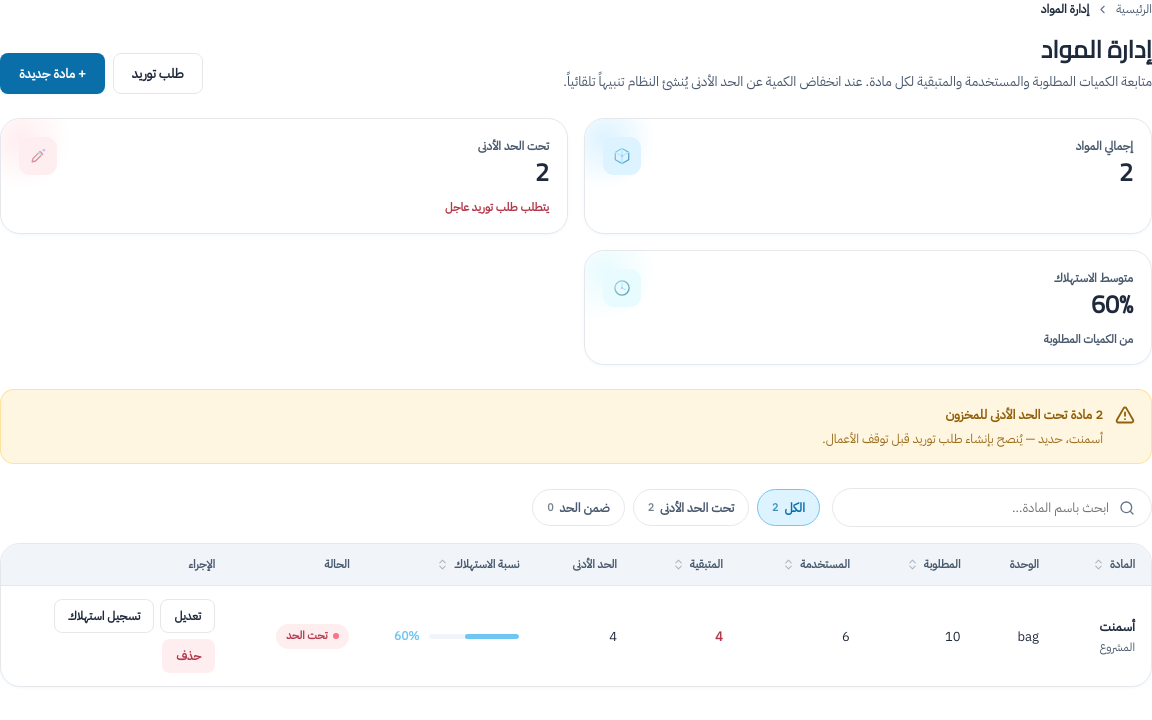
MaterialsPage › targets notification navigation and exposes safe edit, consumption, and delete controls
Expected: the text "أسمنت" is shown, [1100,617,1135,636]
Expected: the text "تحت الحد" is shown, [276,624,349,649]
Click the button "تعديل" at (188, 616), box [160,599,215,633]
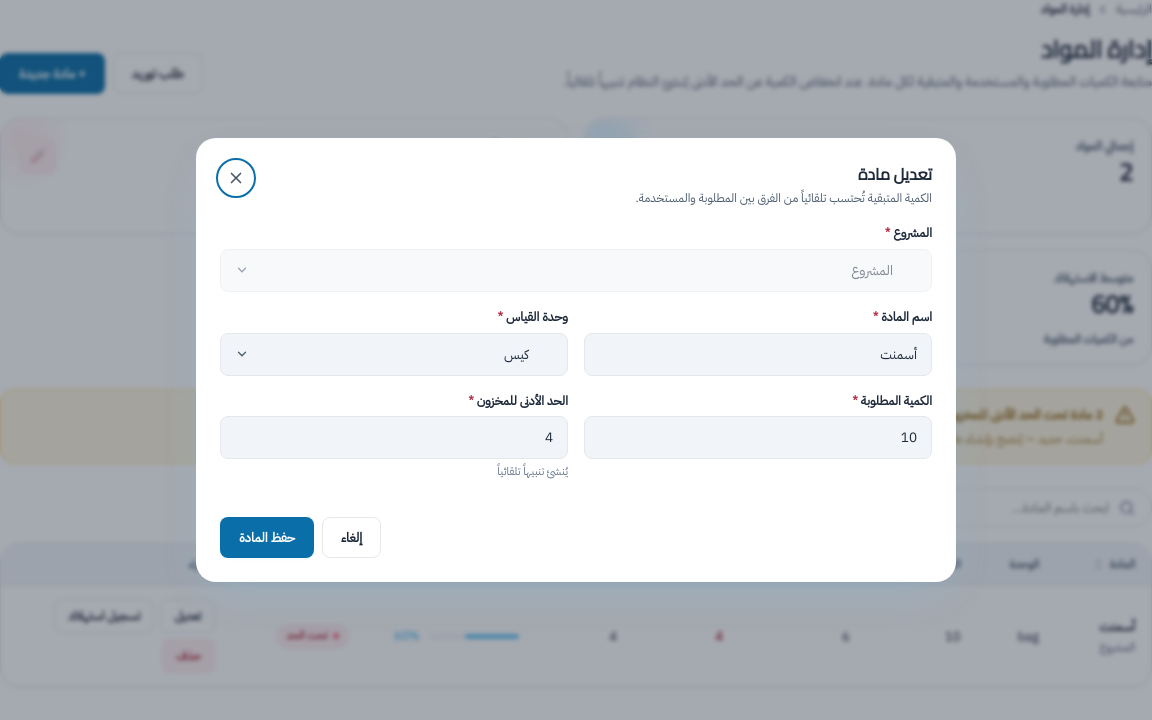
Result: the dropdown labelled "المشروع*" is disabled at [220,249,932,292]
Result: the dropdown labelled "وحدة القياس*" shows "كيس" at [220,333,568,376]
Click the button "إلغاء" at (352, 538), box [322,517,381,558]
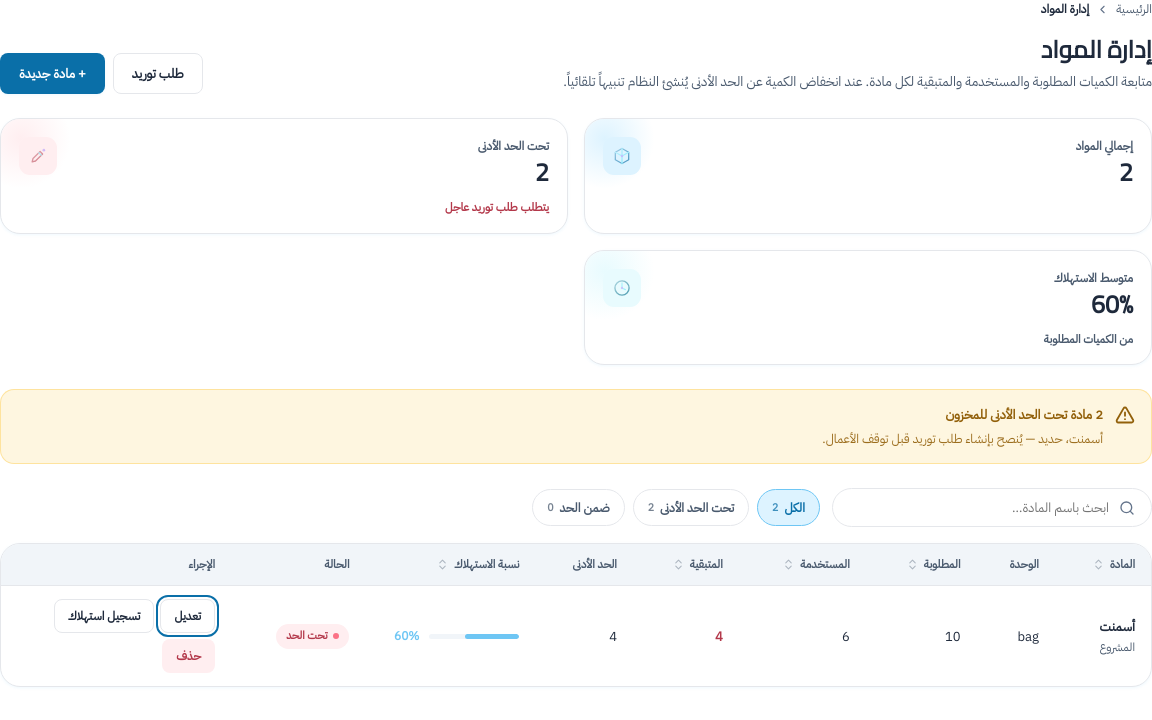
Click the button "تسجيل استهلاك" at (104, 616), box [54,599,154,633]
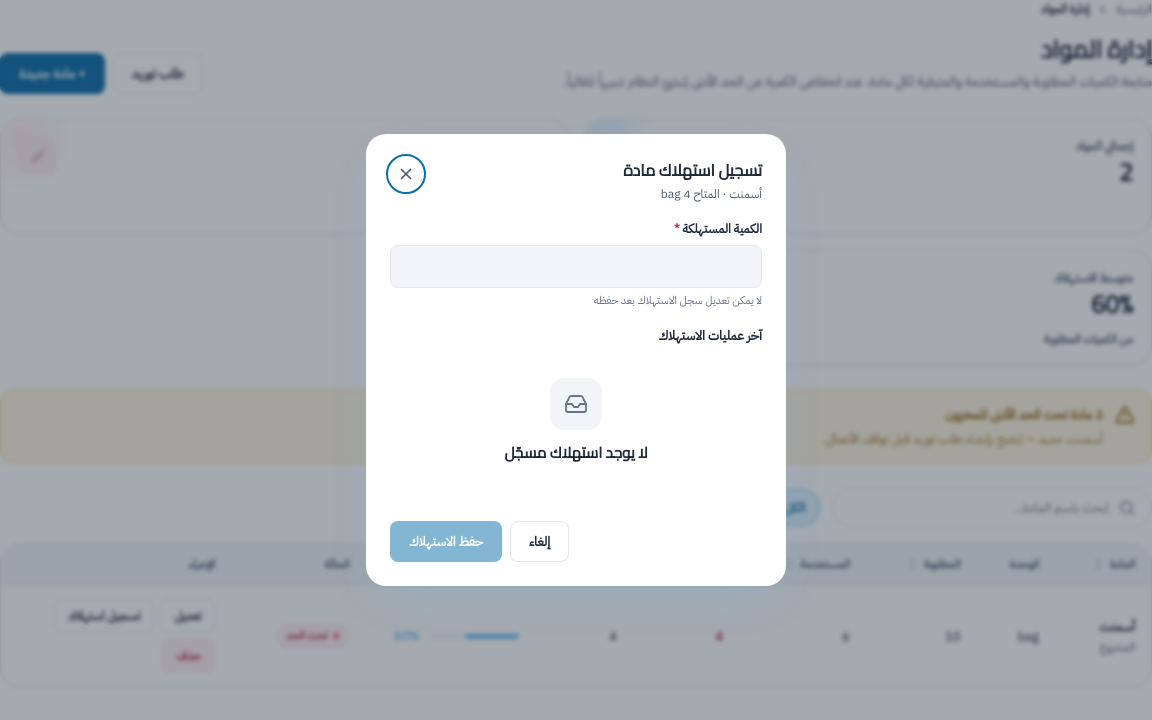
Result: the dialog "تسجيل استهلاك مادة" is shown at [366,134,786,586]
Click the button "إلغاء" at (540, 542), box [510,521,569,562]
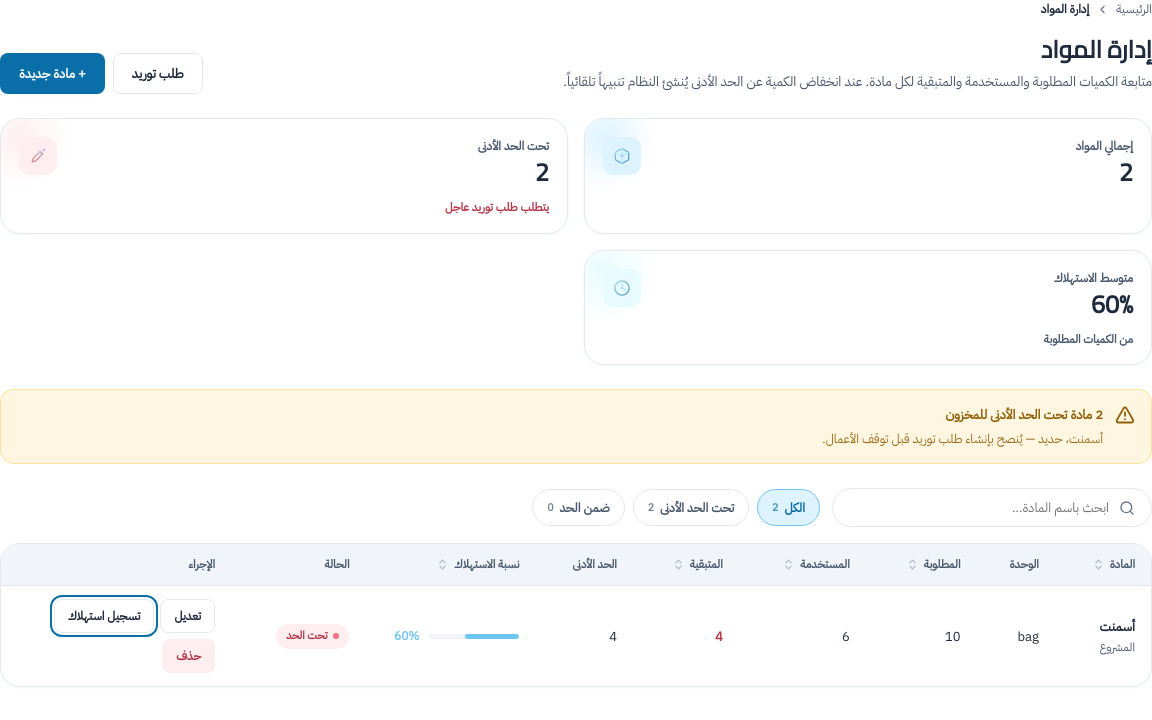
Click the button "حذف" at (189, 656), box [162,639,215,673]
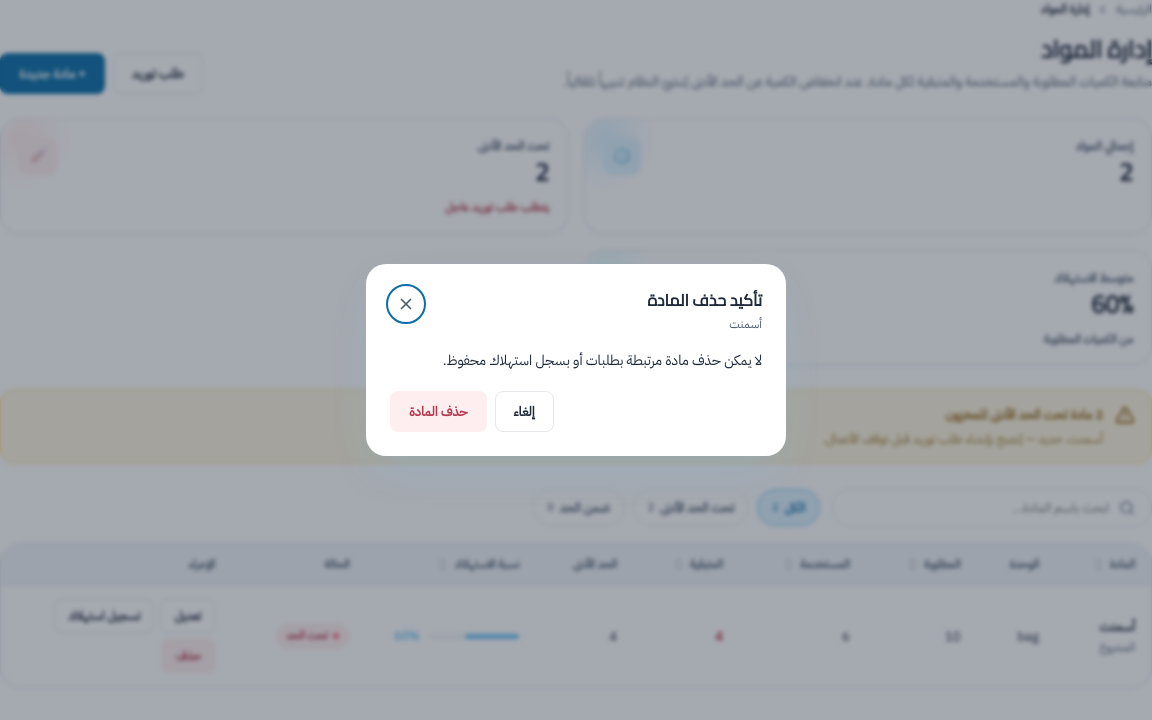
Result: the dialog "تأكيد حذف المادة" is shown at [366,264,786,456]
